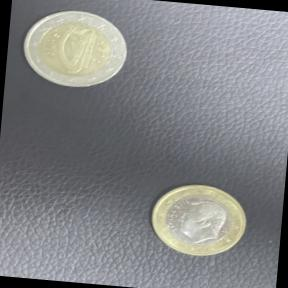coin: (15, 1, 135, 96), (143, 176, 255, 266)
